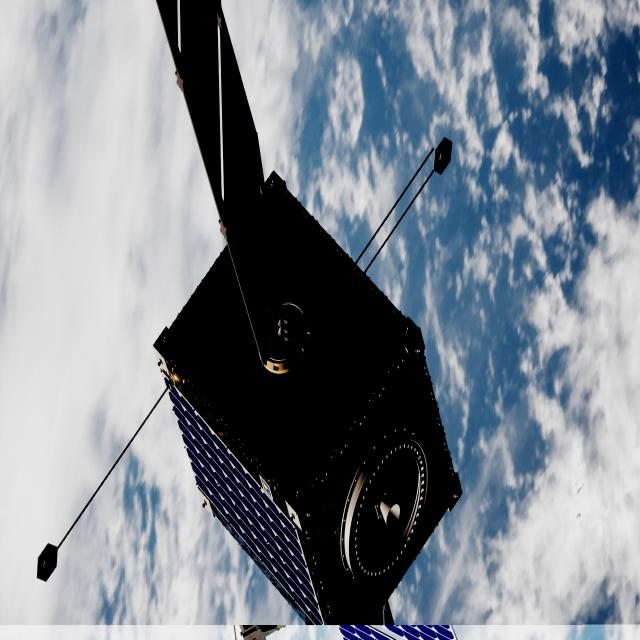satellite: (153, 0, 463, 629)
